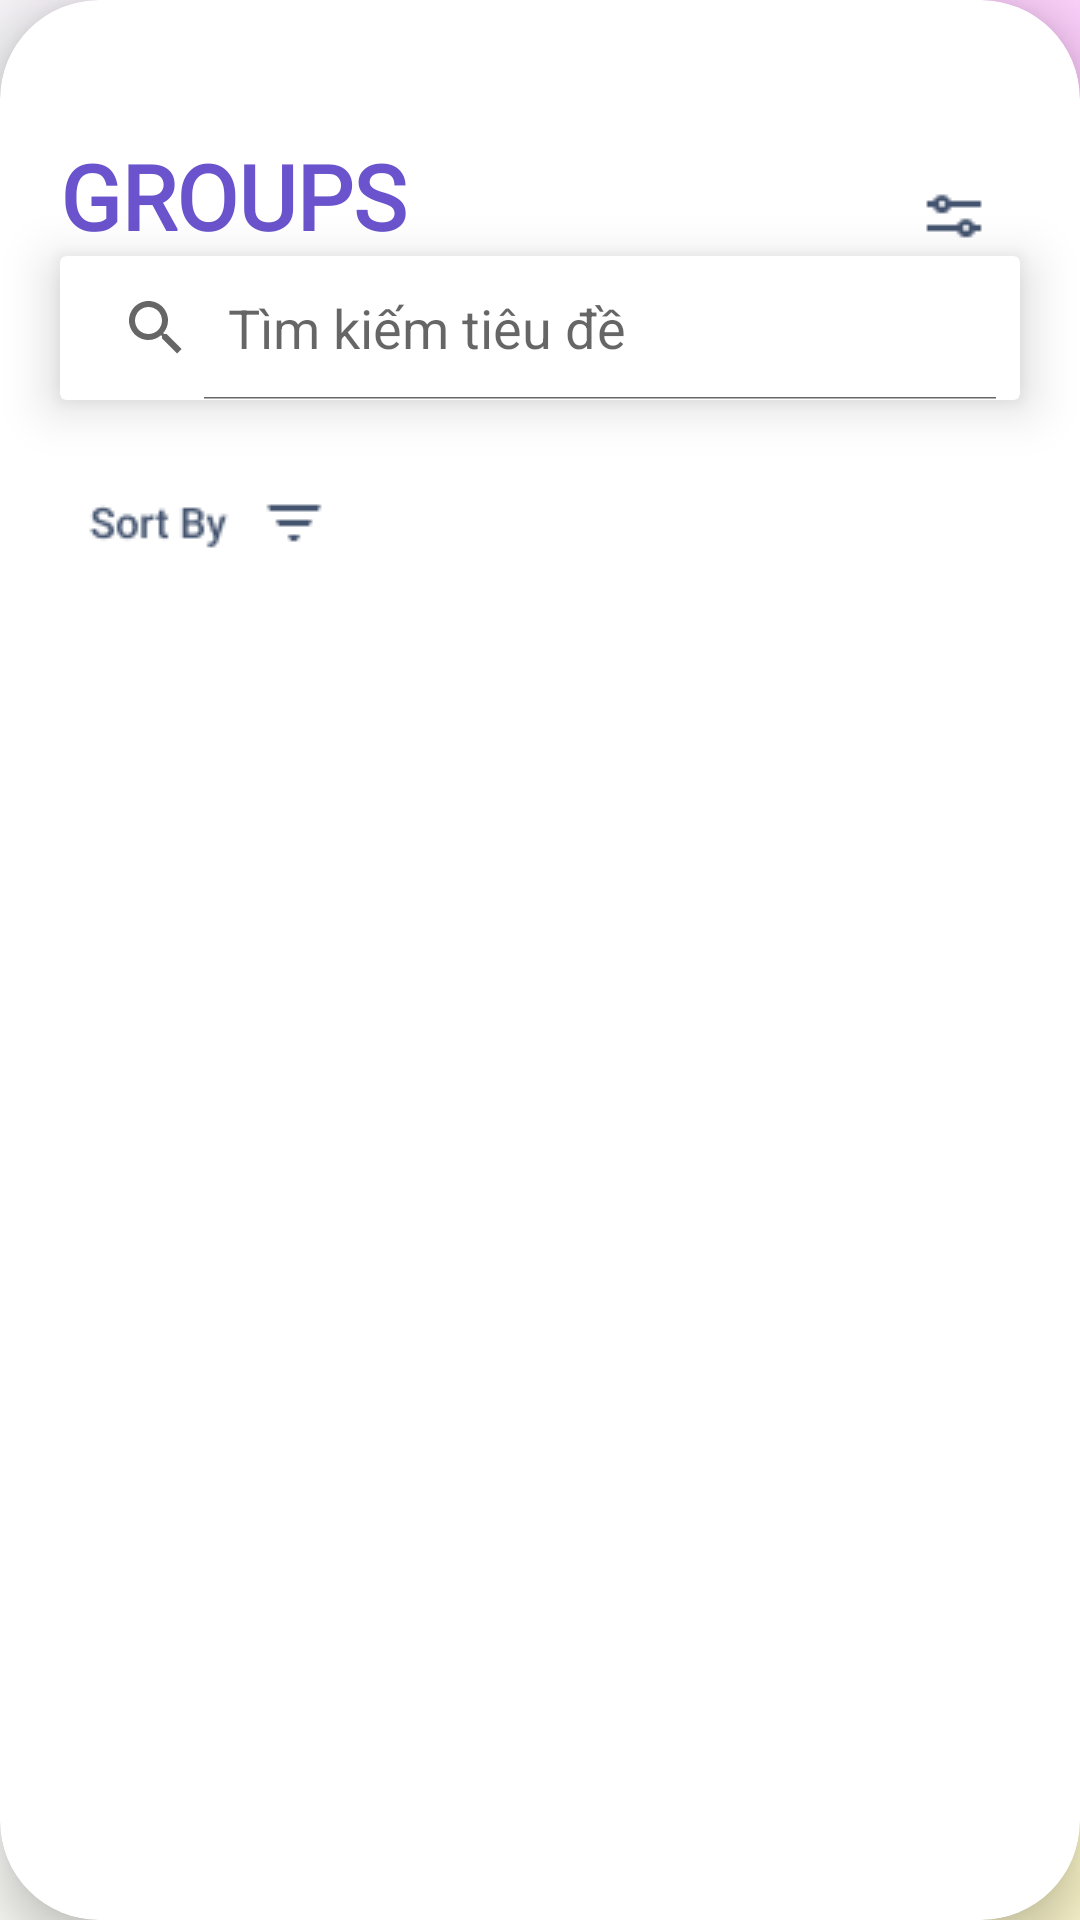

Icons on this 1080px x 1920px Android screen, each with the point to tap as (x=x, y=y):
preferences: (x=954, y=216)
